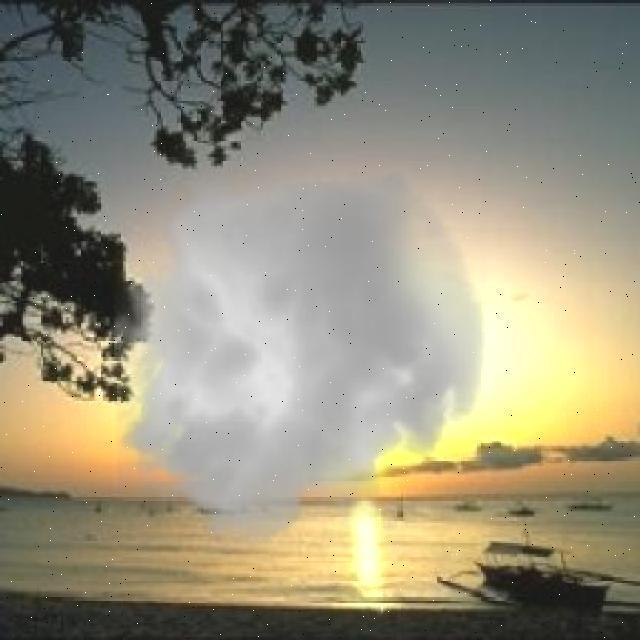smoke: (170, 179, 518, 524)
